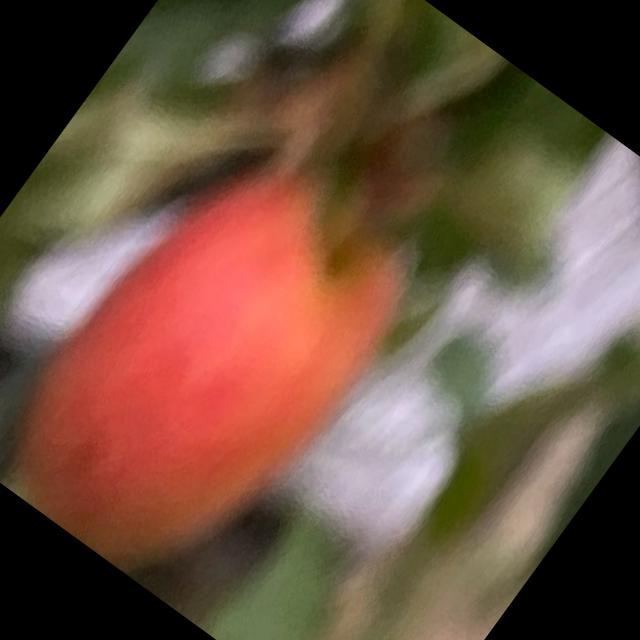Apples: (0, 124, 436, 618)
